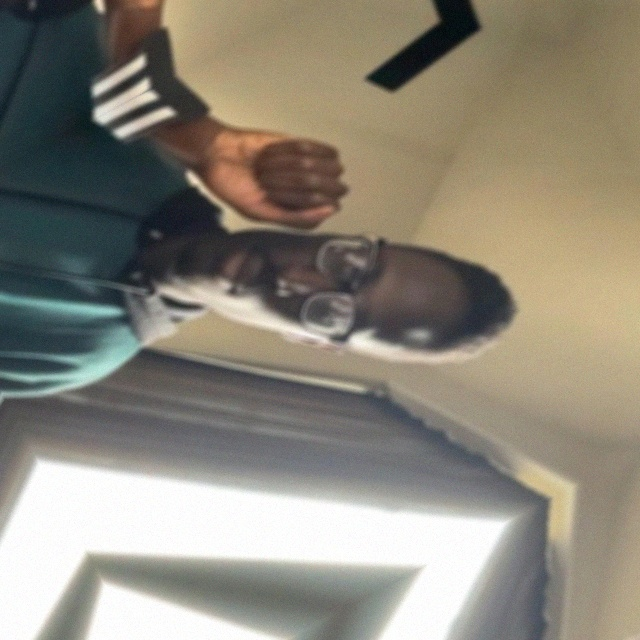Rock: (25, 0, 262, 47)
